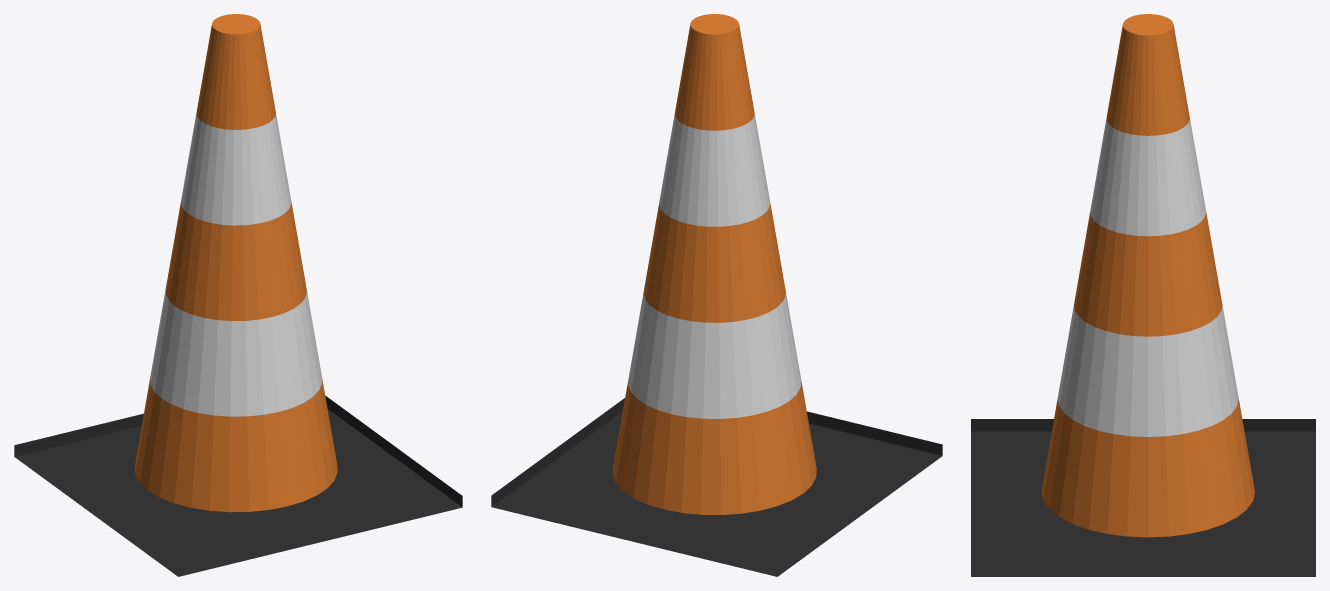
File: StreetCone.fbx
3 views of the same model, side by side, from view 1: azimuth 30°, elevation 25°; view 2: azimuth 150°, elevation 25°; view 3: azimuth 270°, elevation 25° (orthographic). The views are drawn at different scales.
Visible parts, largest first — view 1: Cylinder; view 2: Cylinder; view 3: Cylinder.
Part boxes in pixels (bbox=[...]): Cylinder: bbox=[14, 14, 462, 576]; Cylinder: bbox=[491, 14, 942, 576]; Cylinder: bbox=[971, 14, 1315, 576].
Bounding box in the file's own units: 54.6 × 83.71 × 54.6.
